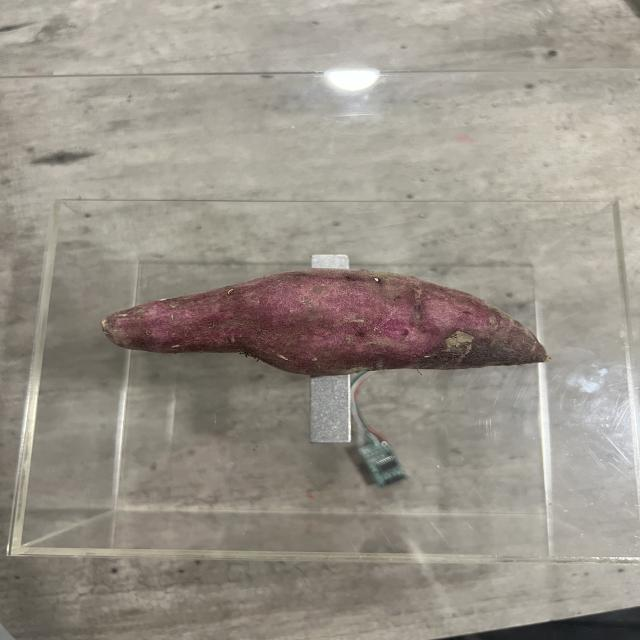sweet potato: (90, 264, 544, 373)
